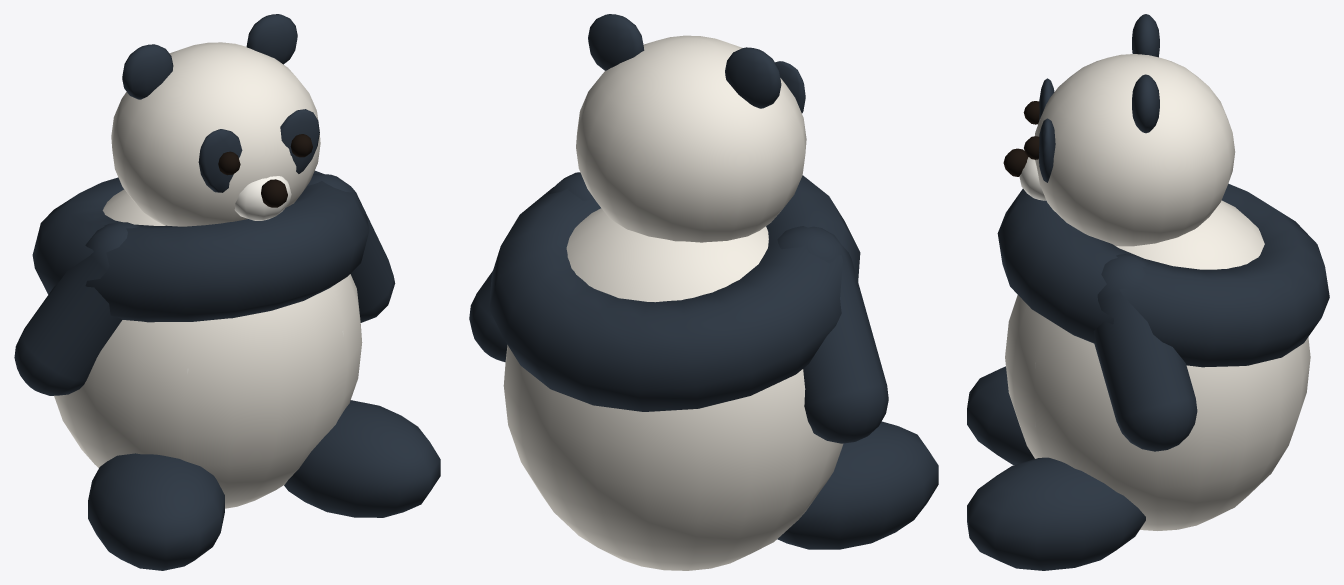
The model's file is h04-panda.glb.
The picture shows the model from 3 angles, left to right: view 1: azimuth 30°, elevation 25°; view 2: azimuth 150°, elevation 25°; view 3: azimuth 270°, elevation 25°; orthographic projection. The views are drawn at different scales.
Parts seen in each view (by area): view 1: Panda, head; view 2: Panda, head; view 3: Panda, head.
Boxes of the visible parts, bbox=[...] form: Panda: bbox=[14, 170, 440, 570]; head: bbox=[111, 14, 320, 226]; Panda: bbox=[469, 172, 938, 570]; head: bbox=[576, 14, 806, 242]; Panda: bbox=[967, 183, 1329, 570]; head: bbox=[1003, 14, 1235, 246].
Size of the model in its own units: 0.7125 by 0.8715 by 0.6088.
